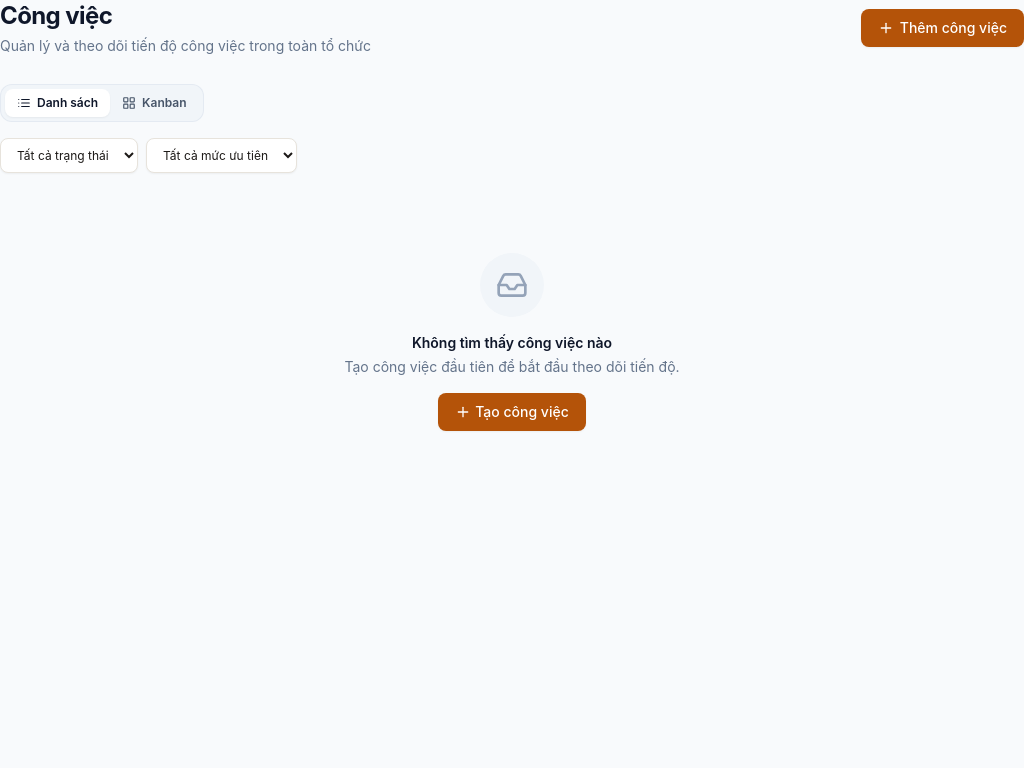
TasksPage › opens create modal on button click
Click the button "Thêm công việc" at (942, 28), box [861,9,1023,47]
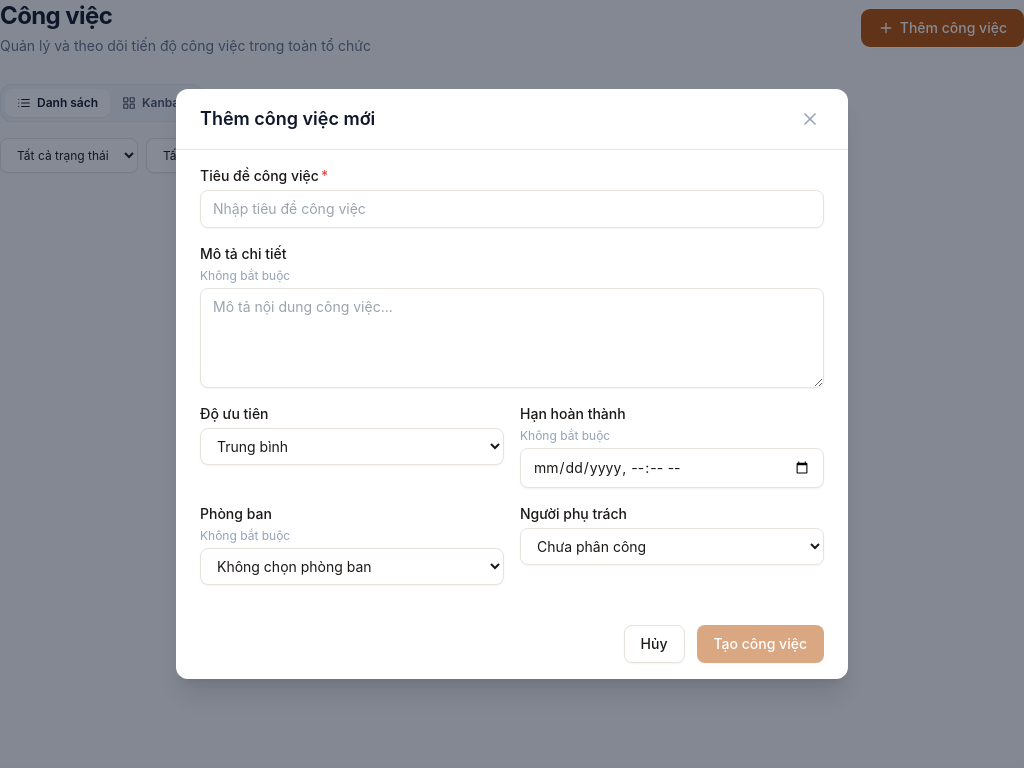
Now the heading "Thêm công việc mới" is shown, box [200,105,375,133]
Now the field with placeholder "Nhập tiêu đề công việc" is shown, box [200,190,824,228]
